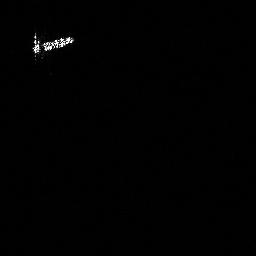ship: (29, 31, 76, 60)
